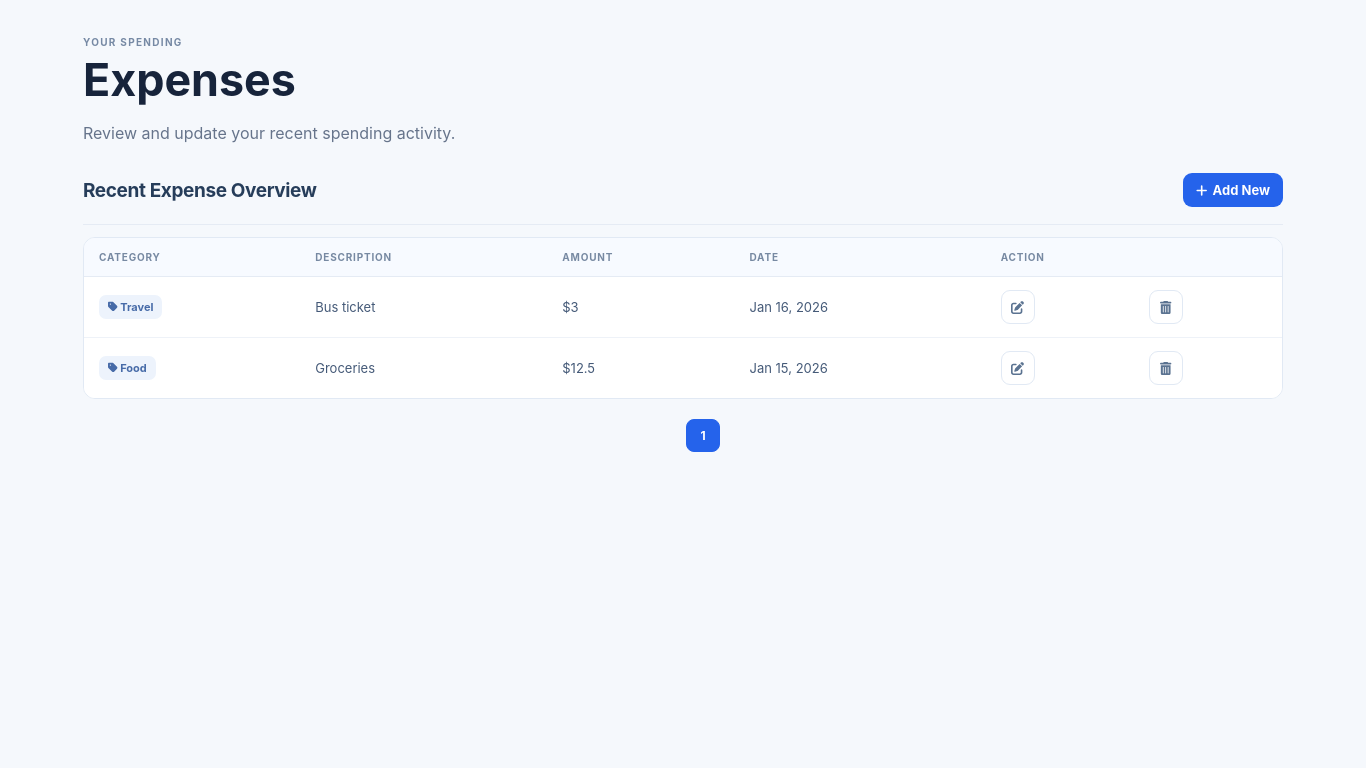
Test: ExpenseList › edits an expense through the modal
The width and height of the screenshot is (1366, 768).
Expected: the text "Groceries" is shown, [300, 338, 547, 398]
Step 1. Click the button named "Edit expense 1" → (1018,368), box [1001, 351, 1035, 385]
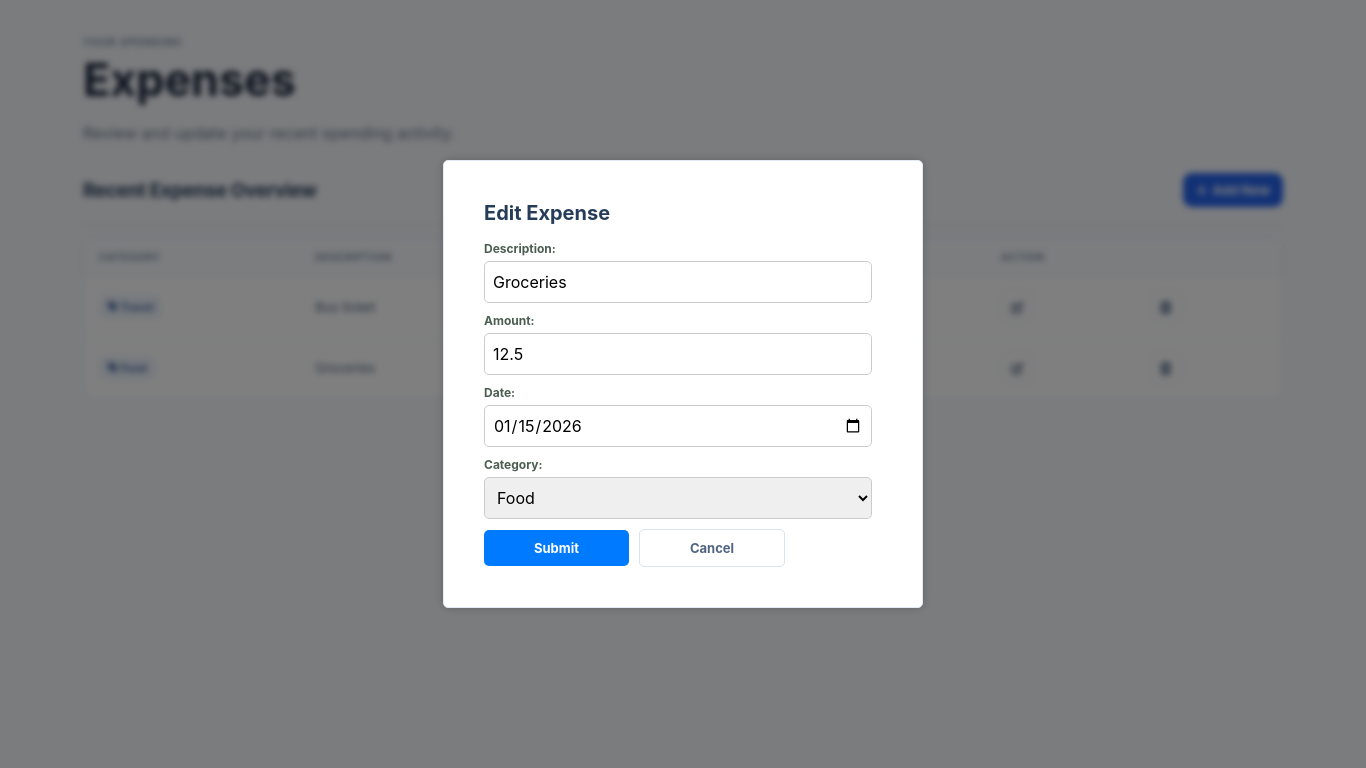
Now the heading "Edit Expense" is shown, box [484, 201, 610, 225]
Step 2. Replace the text in the field labelled "Description:" with "Updated groceries" → (678,282), box [484, 261, 872, 303]
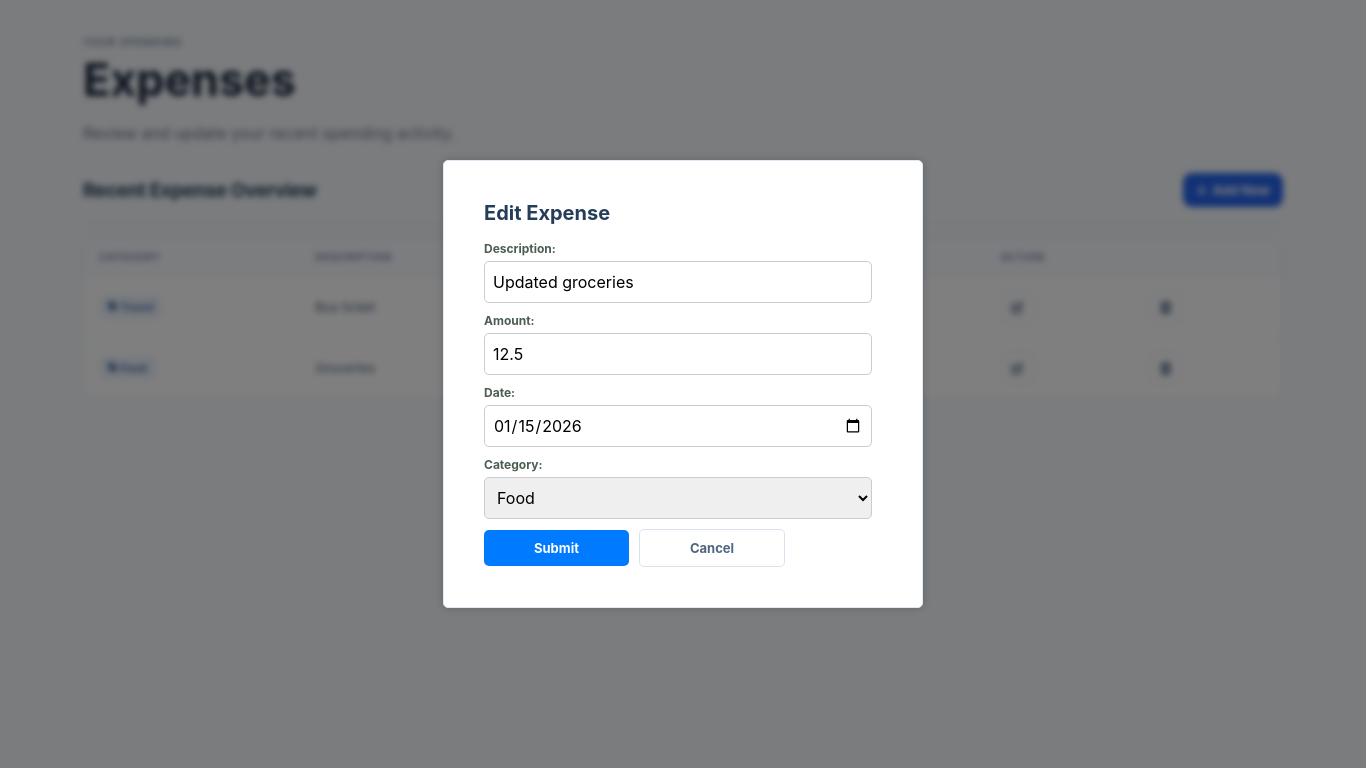
Step 3. Replace the text in the number field labelled "Amount:" with "20" → (678,354), box [484, 333, 872, 375]
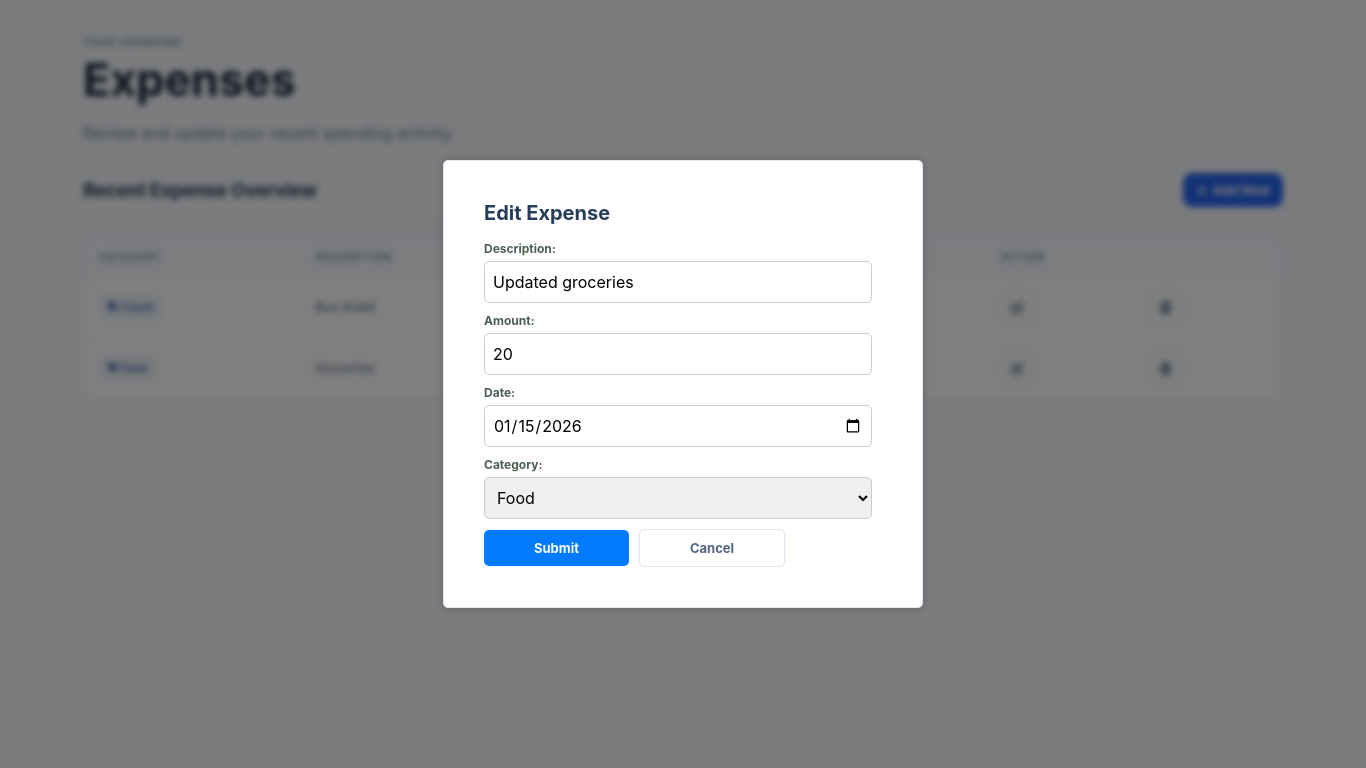
Step 4. Click the button "Submit" → (556,548), box [484, 530, 629, 566]
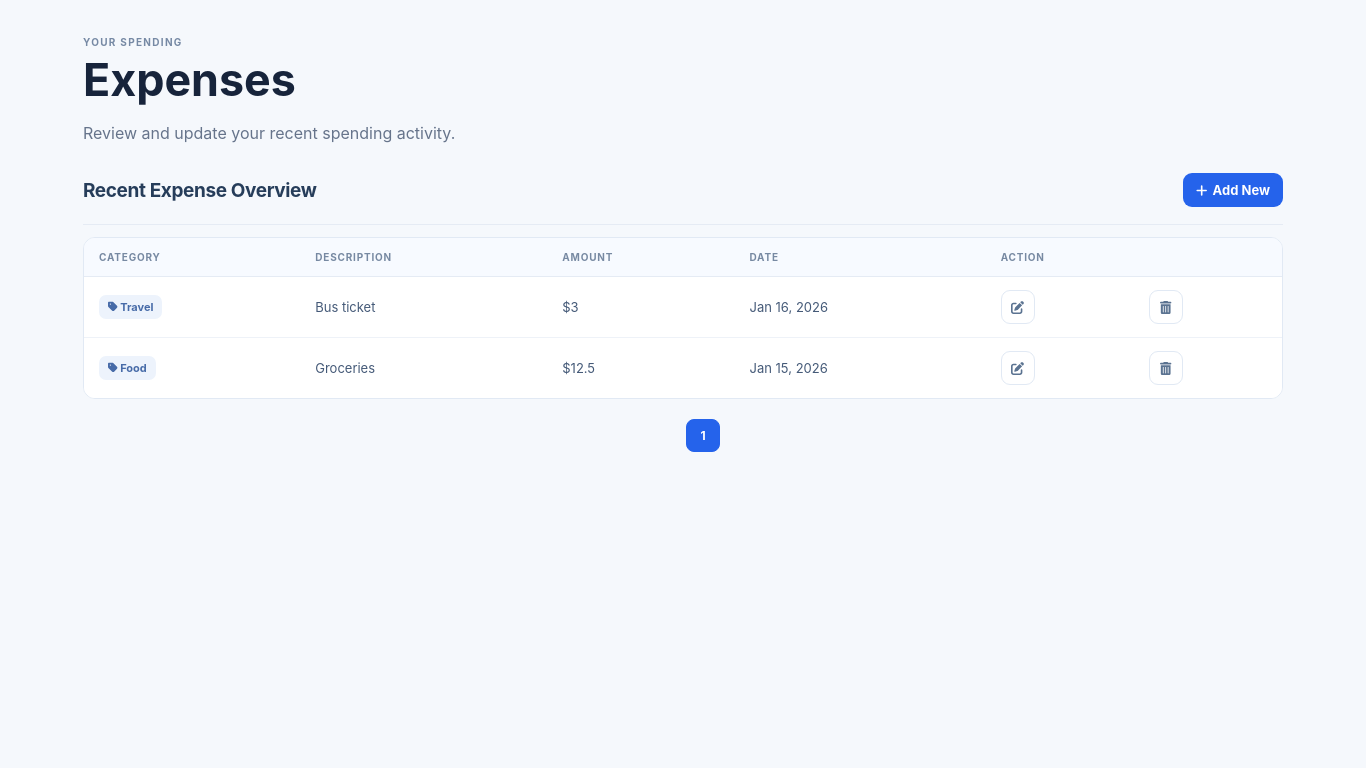
Now the heading "Edit Expense" is gone
